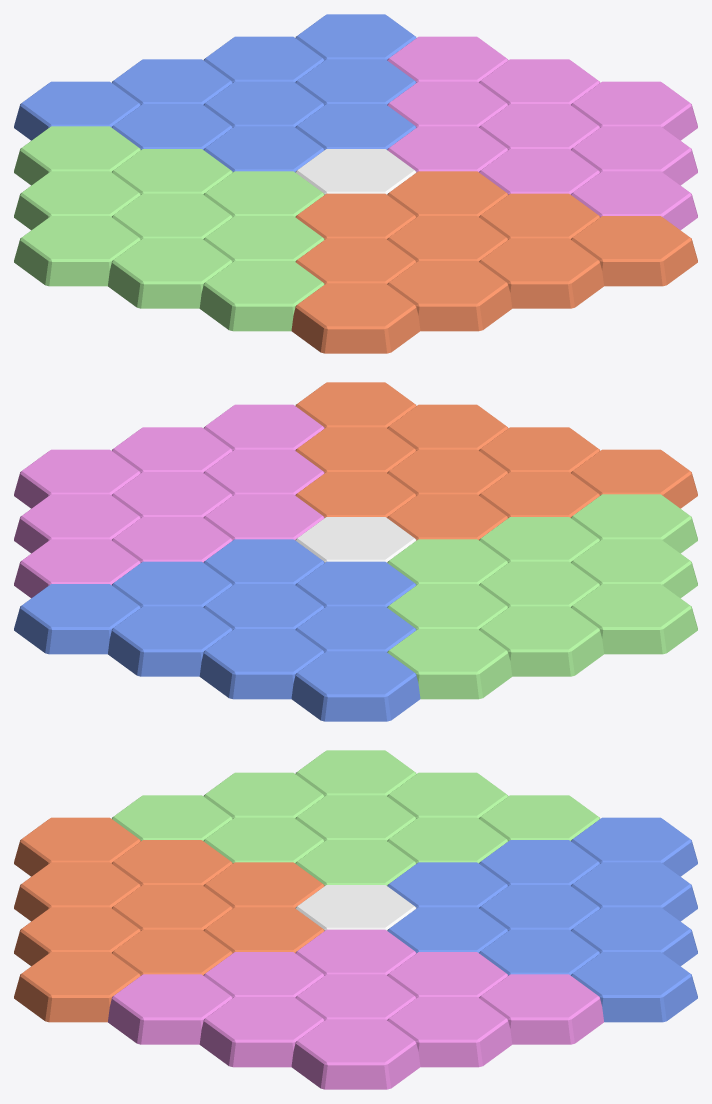
File: Board.fbx
The picture shows the model from 3 angles, top to bottom: view 1: azimuth 30°, elevation 25°; view 2: azimuth 150°, elevation 25°; view 3: azimuth 270°, elevation 25°; orthographic projection.
Parts seen in each view (by area): view 1: Hex_Block_9, Hex_Block_3, Hex_Block_34, Hex_Block_6, Hex_Block_35, Hex_Block_8, Hex_Block_36, Hex_Block_14, Hex_Block_30, Hex_Block_15, Hex_Block_27, Hex_Block_12 (+25 smaller); view 2: Hex_Block_15, Hex_Block_3, Hex_Block_21, Hex_Block_12, Hex_Block_20, Hex_Block_14, Hex_Block_18, Hex_Block_8, Hex_Block_26, Hex_Block_9, Hex_Block_27, Hex_Block_6 (+25 smaller); view 3: Hex_Block_27, Hex_Block_21, Hex_Block_34, Hex_Block_24, Hex_Block_33, Hex_Block_26, Hex_Block_30, Hex_Block_18, Hex_Block_36, Hex_Block_9, Hex_Block_15, Hex_Block_20 (+25 smaller).
Part boxes in pixels (<box>): Hex_Block_9: <box>291,283,420,353</box>; Hex_Block_3: <box>14,216,140,286</box>; Hex_Block_34: <box>571,216,697,286</box>; Hex_Block_6: <box>108,238,232,308</box>; Hex_Block_35: <box>479,238,603,308</box>; Hex_Block_8: <box>199,261,324,331</box>; Hex_Block_36: <box>387,261,512,331</box>; Hex_Block_14: <box>14,126,140,185</box>; Hex_Block_30: <box>571,126,697,185</box>; Hex_Block_15: <box>14,81,140,140</box>; Hex_Block_27: <box>571,81,697,140</box>; Hex_Block_12: <box>14,171,140,230</box>; Hex_Block_15: <box>291,651,420,721</box>; Hex_Block_3: <box>571,584,697,654</box>; Hex_Block_21: <box>14,584,140,654</box>; Hex_Block_12: <box>479,606,603,676</box>; Hex_Block_20: <box>108,606,232,676</box>; Hex_Block_14: <box>387,629,512,699</box>; Hex_Block_18: <box>199,629,324,699</box>; Hex_Block_8: <box>571,494,697,553</box>; Hex_Block_26: <box>14,494,140,553</box>; Hex_Block_9: <box>571,449,697,508</box>; Hex_Block_27: <box>14,449,140,508</box>; Hex_Block_6: <box>571,539,697,598</box>; Hex_Block_27: <box>291,1019,420,1089</box>; Hex_Block_21: <box>571,952,697,1022</box>; Hex_Block_34: <box>14,952,140,1022</box>; Hex_Block_24: <box>479,974,603,1044</box>; Hex_Block_33: <box>108,974,232,1044</box>; Hex_Block_26: <box>387,997,512,1067</box>; Hex_Block_30: <box>199,997,324,1067</box>; Hex_Block_18: <box>571,862,697,921</box>; Hex_Block_36: <box>14,862,140,921</box>; Hex_Block_9: <box>14,817,140,876</box>; Hex_Block_15: <box>571,817,697,876</box>; Hex_Block_20: <box>571,907,697,966</box>.
Size of the model in its own units: 711 by 25 by 645.
